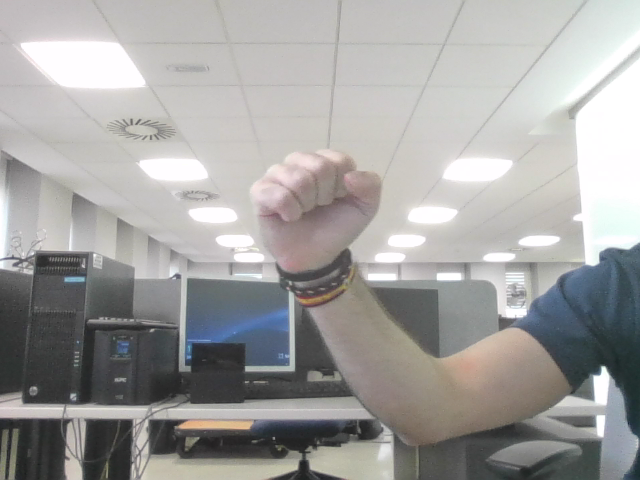Puño: (262, 159, 368, 236)
